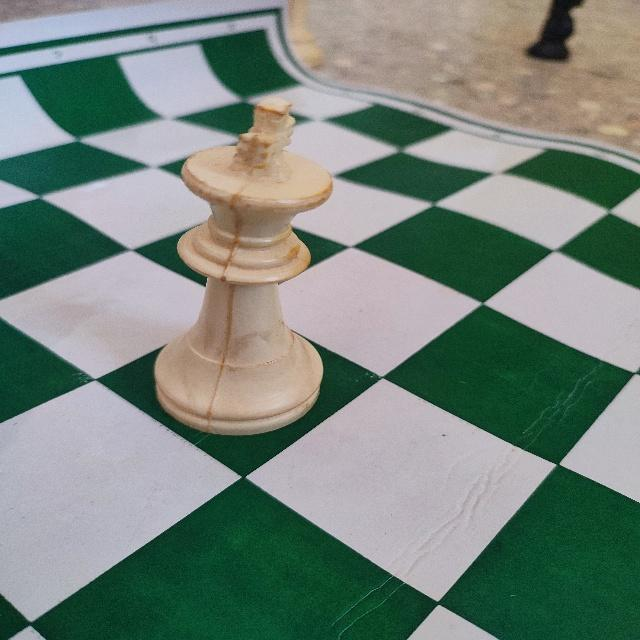King: (150, 92, 334, 442)
